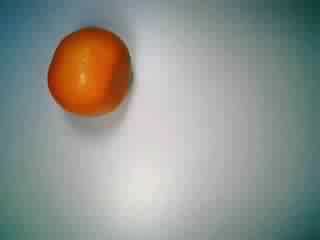orange: (44, 25, 140, 119)
